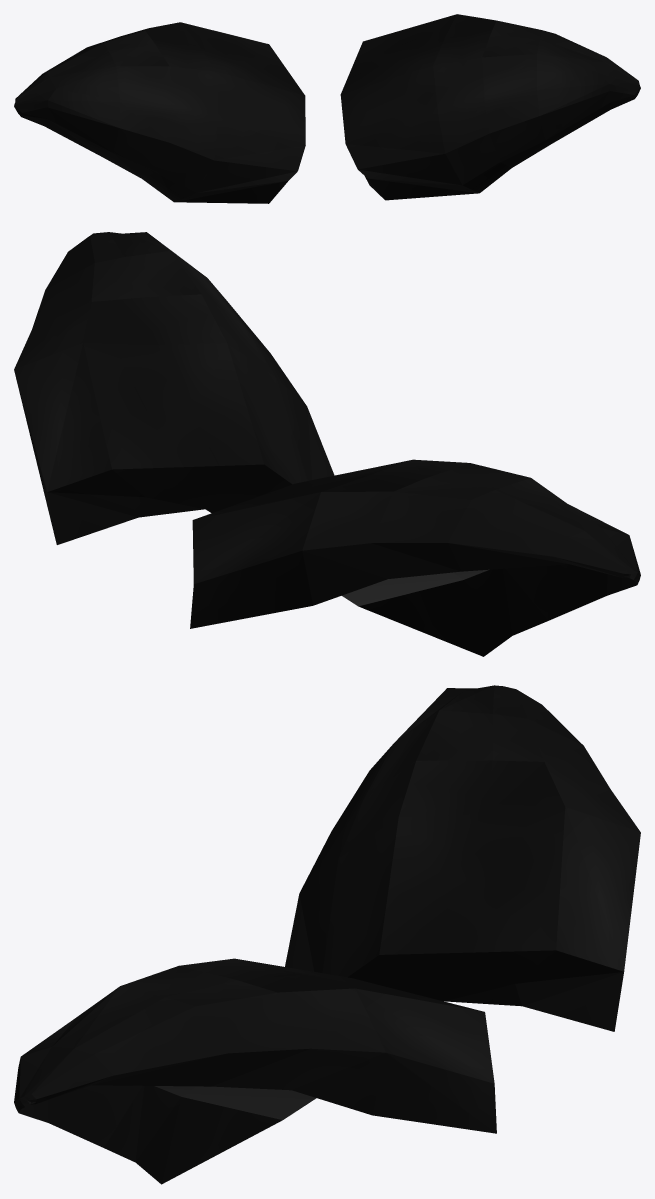
File: WEREWOLF EARS.fbx
3 views of the same model, one above another, from view 1: azimuth 30°, elevation 25°; view 2: azimuth 150°, elevation 25°; view 3: azimuth 270°, elevation 25° (orthographic). The views are drawn at different scales.
Parts seen in each view (by area): view 1: WEREWOLF_EARS; view 2: WEREWOLF_EARS; view 3: WEREWOLF_EARS.
Part boxes in pixels (left/top/right/bottom): WEREWOLF_EARS: left=14, top=14, right=640, bottom=203; WEREWOLF_EARS: left=14, top=232, right=640, bottom=656; WEREWOLF_EARS: left=14, top=685, right=640, bottom=1184.
Size of the model in its own units: 34.3 by 9.42 by 22.
